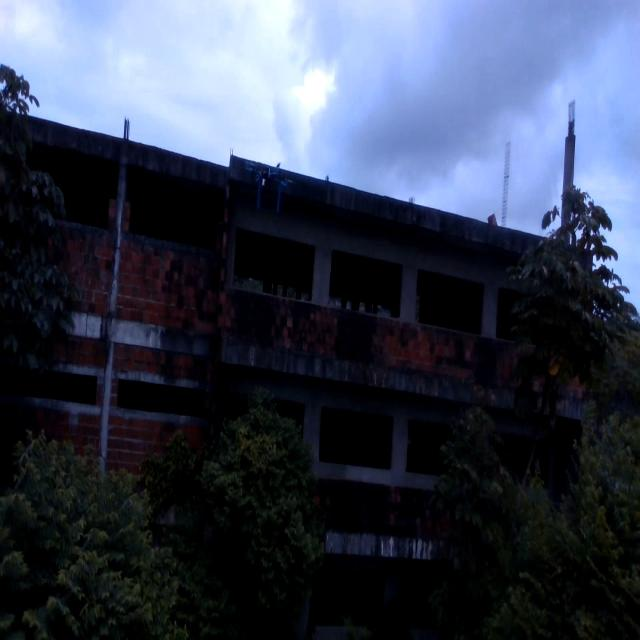-uav-: (234, 150, 302, 231)
